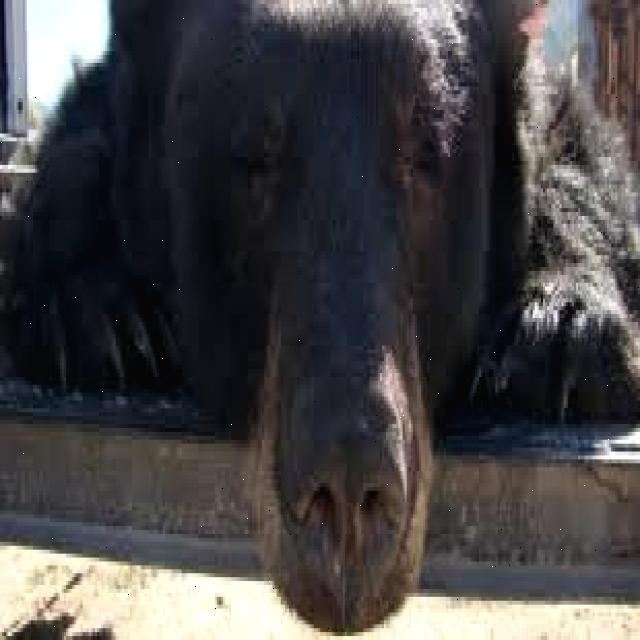bear: (120, 0, 554, 617)
